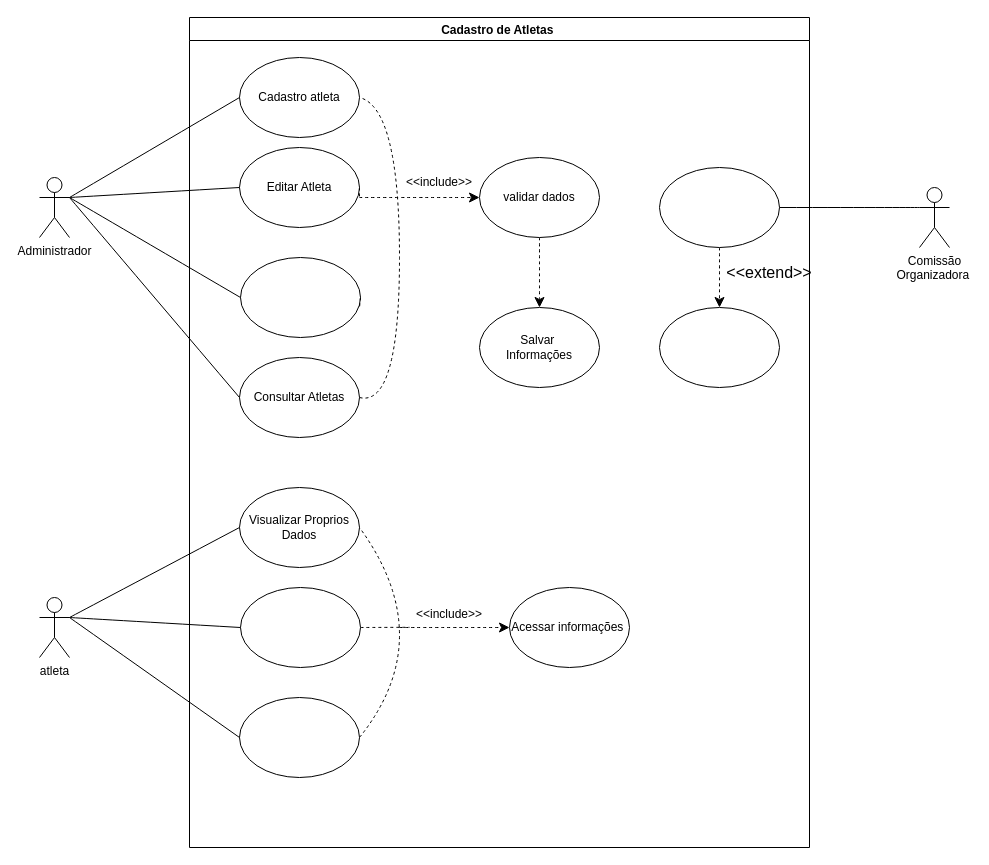
Image size: 989x865. Some labels were removed from this diagram. The centre of each missing label's shape, as x and y in pixels:
"Consultar Rrsultados" goes at [299,737].
"Definir Regras dos Jogos" goes at [719,347].
"excluir Atleta" goes at [300,297].
"Gerenciar Modalidades" goes at [719,207].
"Se inscrever em Modalidades" goes at [300,627].
